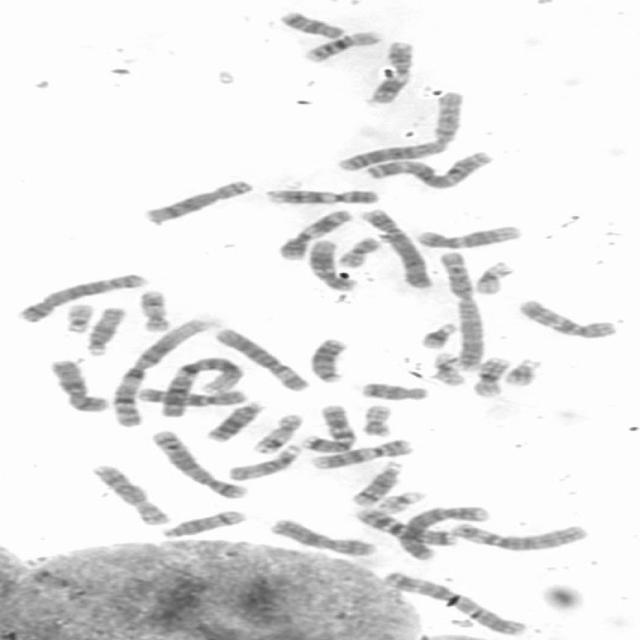A1: (104, 315, 215, 428), (154, 352, 246, 418)
A2: (333, 88, 468, 172), (434, 247, 488, 371)
A3: (377, 567, 531, 636), (360, 148, 496, 190)
B4: (356, 204, 436, 290), (394, 502, 494, 561)
B5: (146, 425, 252, 500), (12, 269, 150, 324)
C10: (511, 294, 622, 340), (130, 383, 250, 407)
C11: (271, 205, 354, 261), (361, 36, 418, 106)
C12: (410, 221, 526, 250), (304, 235, 361, 291)
C6: (208, 324, 312, 392), (442, 518, 594, 552)
C7: (348, 504, 460, 546), (296, 401, 359, 454)
C8: (138, 175, 257, 225), (85, 461, 173, 526)
C9: (306, 434, 416, 470), (261, 184, 383, 206)
D13: (201, 398, 268, 442), (305, 334, 353, 384)
D14: (156, 506, 249, 539), (347, 458, 407, 506)
D15: (222, 440, 304, 482), (78, 303, 128, 356)
E16: (297, 26, 386, 64), (467, 352, 512, 398)
E17: (248, 410, 305, 454), (134, 285, 173, 333)
E18: (273, 7, 349, 40), (354, 378, 433, 402)
F19: (470, 257, 518, 295), (426, 348, 468, 387)
F20: (332, 233, 384, 269), (357, 400, 397, 438)
G21: (498, 355, 546, 387), (414, 319, 461, 350)
G22: (371, 486, 428, 514), (58, 300, 98, 334)
X: (264, 515, 381, 557), (43, 356, 113, 413)
